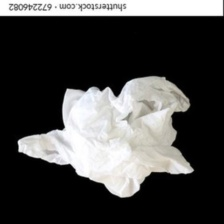tissue: (13, 70, 203, 202)
